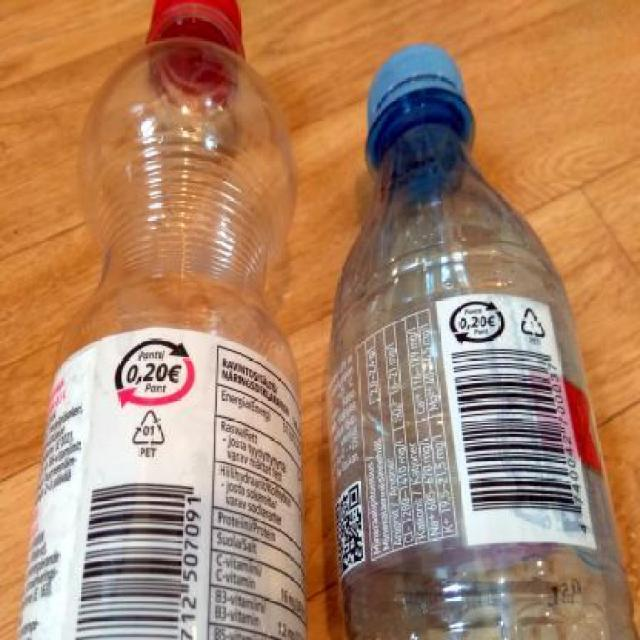bottle: (326, 45, 620, 640)
